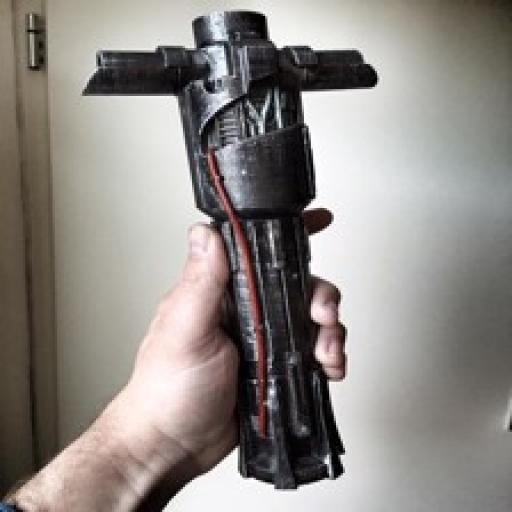lightsaber: (79, 9, 380, 490)
